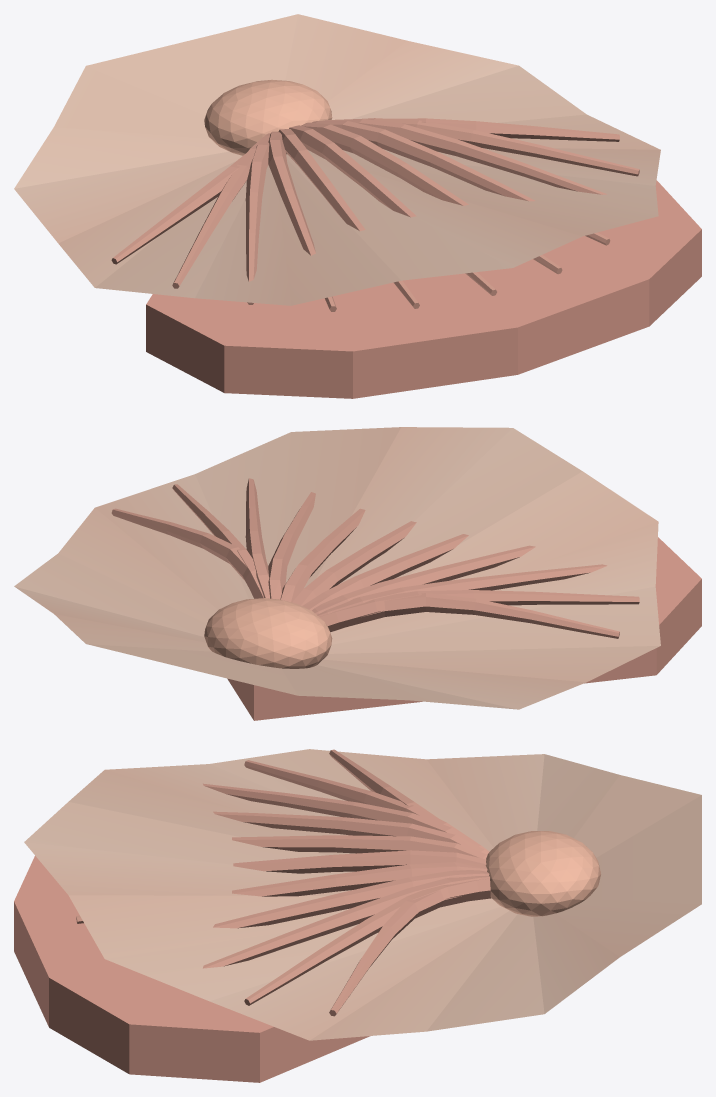
The model's file is token_seashell.glb.
The picture shows the model from 3 angles, top to bottom: view 1: azimuth 30°, elevation 25°; view 2: azimuth 150°, elevation 25°; view 3: azimuth 270°, elevation 25°; orthographic projection. The views are drawn at different scales.
Parts seen in each view (by area): view 1: Shell_Fan, Shell_Underside, Shell_Hinge, Shell_Rib_09, Shell_Rib_08, Shell_Rib_10, Shell_Rib_07, Shell_Rib_06, Shell_Rib_05, Shell_Rib_11, Shell_Rib_04, Shell_Rib_03 (+2 smaller); view 2: Shell_Fan, Shell_Underside, Shell_Hinge, Shell_Rib_01, Shell_Rib_02, Shell_Rib_03, Shell_Rib_04, Shell_Rib_05, Shell_Rib_06, Shell_Rib_11, Shell_Rib_07, Shell_Rib_08 (+2 smaller); view 3: Shell_Fan, Shell_Underside, Shell_Hinge, Shell_Rib_04, Shell_Rib_10, Shell_Rib_08, Shell_Rib_05, Shell_Rib_06, Shell_Rib_07, Shell_Rib_09, Shell_Rib_03, Shell_Rib_11 (+2 smaller).
Part boxes in pixels (x1=…): Shell_Fan: x1=14, y1=14, x2=660, y2=305; Shell_Underside: x1=146, y1=180, x2=701, y2=398; Shell_Hinge: x1=204, y1=79, x2=332, y2=155; Shell_Rib_09: x1=323, y1=118, x2=606, y2=194; Shell_Rib_08: x1=311, y1=121, x2=610, y2=245; Shell_Rib_10: x1=363, y1=118, x2=639, y2=176; Shell_Rib_07: x1=301, y1=122, x2=562, y2=274; Shell_Rib_06: x1=289, y1=125, x2=496, y2=295; Shell_Rib_05: x1=278, y1=129, x2=419, y2=308; Shell_Rib_11: x1=389, y1=118, x2=619, y2=141; Shell_Rib_04: x1=268, y1=131, x2=336, y2=311; Shell_Rib_03: x1=245, y1=133, x2=270, y2=304; Shell_Fan: x1=14, y1=427, x2=660, y2=709; Shell_Underside: x1=227, y1=537, x2=701, y2=720; Shell_Hinge: x1=204, y1=598, x2=332, y2=668; Shell_Rib_01: x1=330, y1=593, x2=619, y2=638; Shell_Rib_02: x1=319, y1=590, x2=639, y2=631; Shell_Rib_03: x1=317, y1=564, x2=607, y2=616; Shell_Rib_04: x1=312, y1=545, x2=535, y2=614; Shell_Rib_05: x1=302, y1=534, x2=468, y2=610; Shell_Rib_06: x1=292, y1=521, x2=416, y2=605; Shell_Rib_11: x1=111, y1=508, x2=247, y2=585; Shell_Rib_07: x1=280, y1=508, x2=365, y2=602; Shell_Rib_08: x1=268, y1=492, x2=315, y2=599; Shell_Fan: x1=24, y1=749, x2=701, y2=1040; Shell_Underside: x1=14, y1=856, x2=370, y2=1082; Shell_Hinge: x1=485, y1=831, x2=600, y2=916; Shell_Rib_04: x1=213, y1=811, x2=488, y2=854; Shell_Rib_10: x1=244, y1=878, x2=490, y2=1005; Shell_Rib_08: x1=213, y1=870, x2=489, y2=928; Shell_Rib_05: x1=232, y1=835, x2=487, y2=859; Shell_Rib_06: x1=233, y1=850, x2=486, y2=873; Shell_Rib_07: x1=76, y1=862, x2=487, y2=923; Shell_Rib_09: x1=203, y1=876, x2=489, y2=968; Shell_Rib_03: x1=203, y1=783, x2=489, y2=852; Shell_Rib_11: x1=329, y1=890, x2=491, y2=1016.
Bounding box in the file's own units: 1.38 × 0.24 × 1.37.
